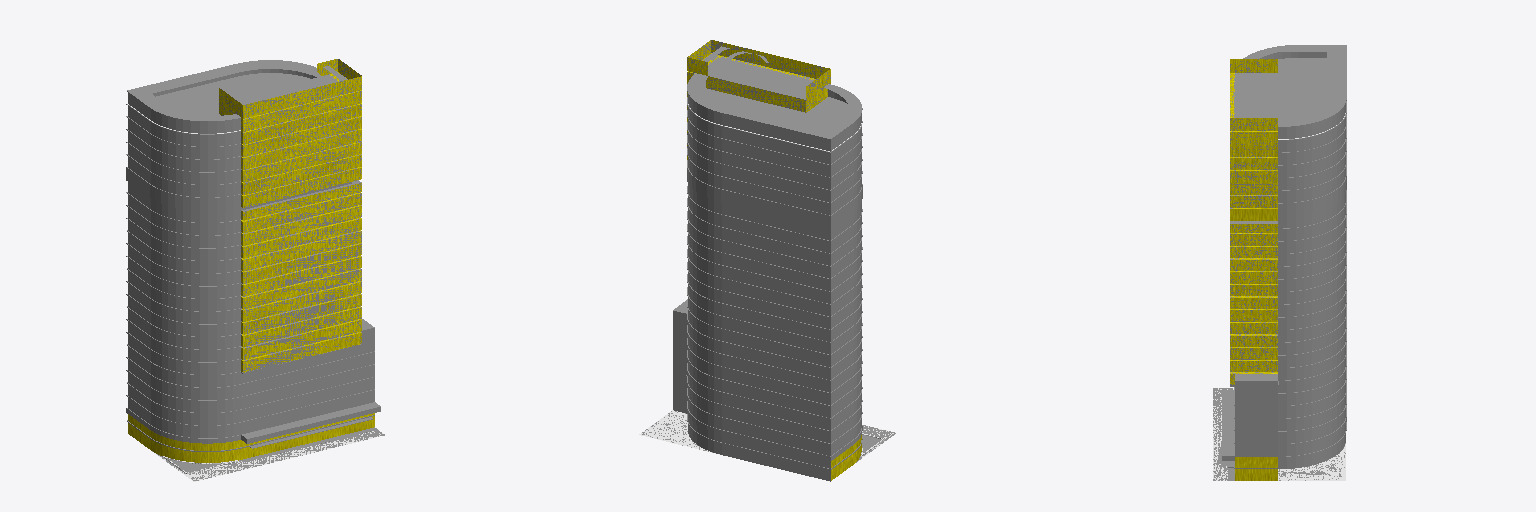
3 renders of one model, left to right at view 1: azimuth 30°, elevation 25°; view 2: azimuth 150°, elevation 25°; view 3: azimuth 270°, elevation 25°, orthographic.
Visible parts, largest first — view 1: SketchUp.189_ID822, SketchUp.059_ID710, SketchUp.009_ID312, SketchUp.011_ID328, SketchUp.007_ID296, SketchUp.013_ID344, SketchUp.014_ID352, SketchUp.001_ID238, SketchUp.003_ID264, SketchUp.041_ID568, SketchUp.263_ID1446, SketchUp.188_ID814 (+28 smaller); view 2: SketchUp.059_ID710, SketchUp.189_ID822, SketchUp.041_ID568, SketchUp.014_ID352, SketchUp.009_ID312, SketchUp.013_ID344, SketchUp.007_ID296, SketchUp.011_ID328, SketchUp.196_ID891, SketchUp.031_ID488, SketchUp.025_ID440, SketchUp.034_ID512 (+21 smaller); view 3: SketchUp.189_ID822, SketchUp.059_ID710, SketchUp.014_ID352, SketchUp.196_ID891, SketchUp.003_ID264, SketchUp.007_ID296, SketchUp.013_ID344, SketchUp.009_ID312, SketchUp.199_ID920, SketchUp.011_ID328, SketchUp.224_ID1124, SketchUp.041_ID568 (+28 smaller).
Boxes of the visible parts, box(x1,y1,x2,y2) form: SketchUp.189_ID822: box(219, 59, 361, 220); SketchUp.059_ID710: box(128, 69, 316, 133); SketchUp.009_ID312: box(128, 378, 374, 425); SketchUp.011_ID328: box(128, 365, 374, 412); SketchUp.007_ID296: box(128, 391, 374, 437); SketchUp.013_ID344: box(128, 353, 374, 399); SketchUp.014_ID352: box(128, 328, 374, 387); SketchUp.001_ID238: box(128, 416, 374, 462); SketchUp.003_ID264: box(126, 402, 380, 443); SketchUp.041_ID568: box(126, 167, 241, 211); SketchUp.263_ID1446: box(152, 430, 384, 481); SketchUp.188_ID814: box(241, 319, 361, 359); SketchUp.059_ID710: box(688, 89, 861, 151); SketchUp.189_ID822: box(687, 40, 830, 147); SketchUp.041_ID568: box(687, 160, 862, 228); SketchUp.014_ID352: box(673, 311, 861, 405); SketchUp.009_ID312: box(673, 361, 861, 443); SketchUp.013_ID344: box(673, 335, 861, 417); SketchUp.007_ID296: box(673, 373, 861, 455); SketchUp.011_ID328: box(673, 348, 861, 430); SketchUp.196_ID891: box(708, 57, 813, 99); SketchUp.031_ID488: box(688, 247, 861, 303); SketchUp.025_ID440: box(688, 285, 861, 341); SketchUp.034_ID512: box(688, 222, 861, 278); SketchUp.189_ID822: box(1230, 59, 1277, 232); SketchUp.059_ID710: box(1260, 52, 1345, 138); SketchUp.014_ID352: box(1235, 358, 1345, 404); SketchUp.196_ID891: box(1235, 73, 1277, 117); SketchUp.003_ID264: box(1222, 390, 1346, 460); SketchUp.007_ID296: box(1235, 409, 1345, 455); SketchUp.013_ID344: box(1235, 371, 1345, 417); SketchUp.009_ID312: box(1235, 396, 1345, 442); SketchUp.199_ID920: box(1244, 45, 1345, 126); SketchUp.011_ID328: box(1235, 383, 1345, 429); SketchUp.224_ID1124: box(1250, 47, 1340, 124); SketchUp.041_ID568: box(1278, 164, 1346, 216).
Size of the model in its own units: 96.28 by 170 by 57.98.
12 materials, 1 textured.